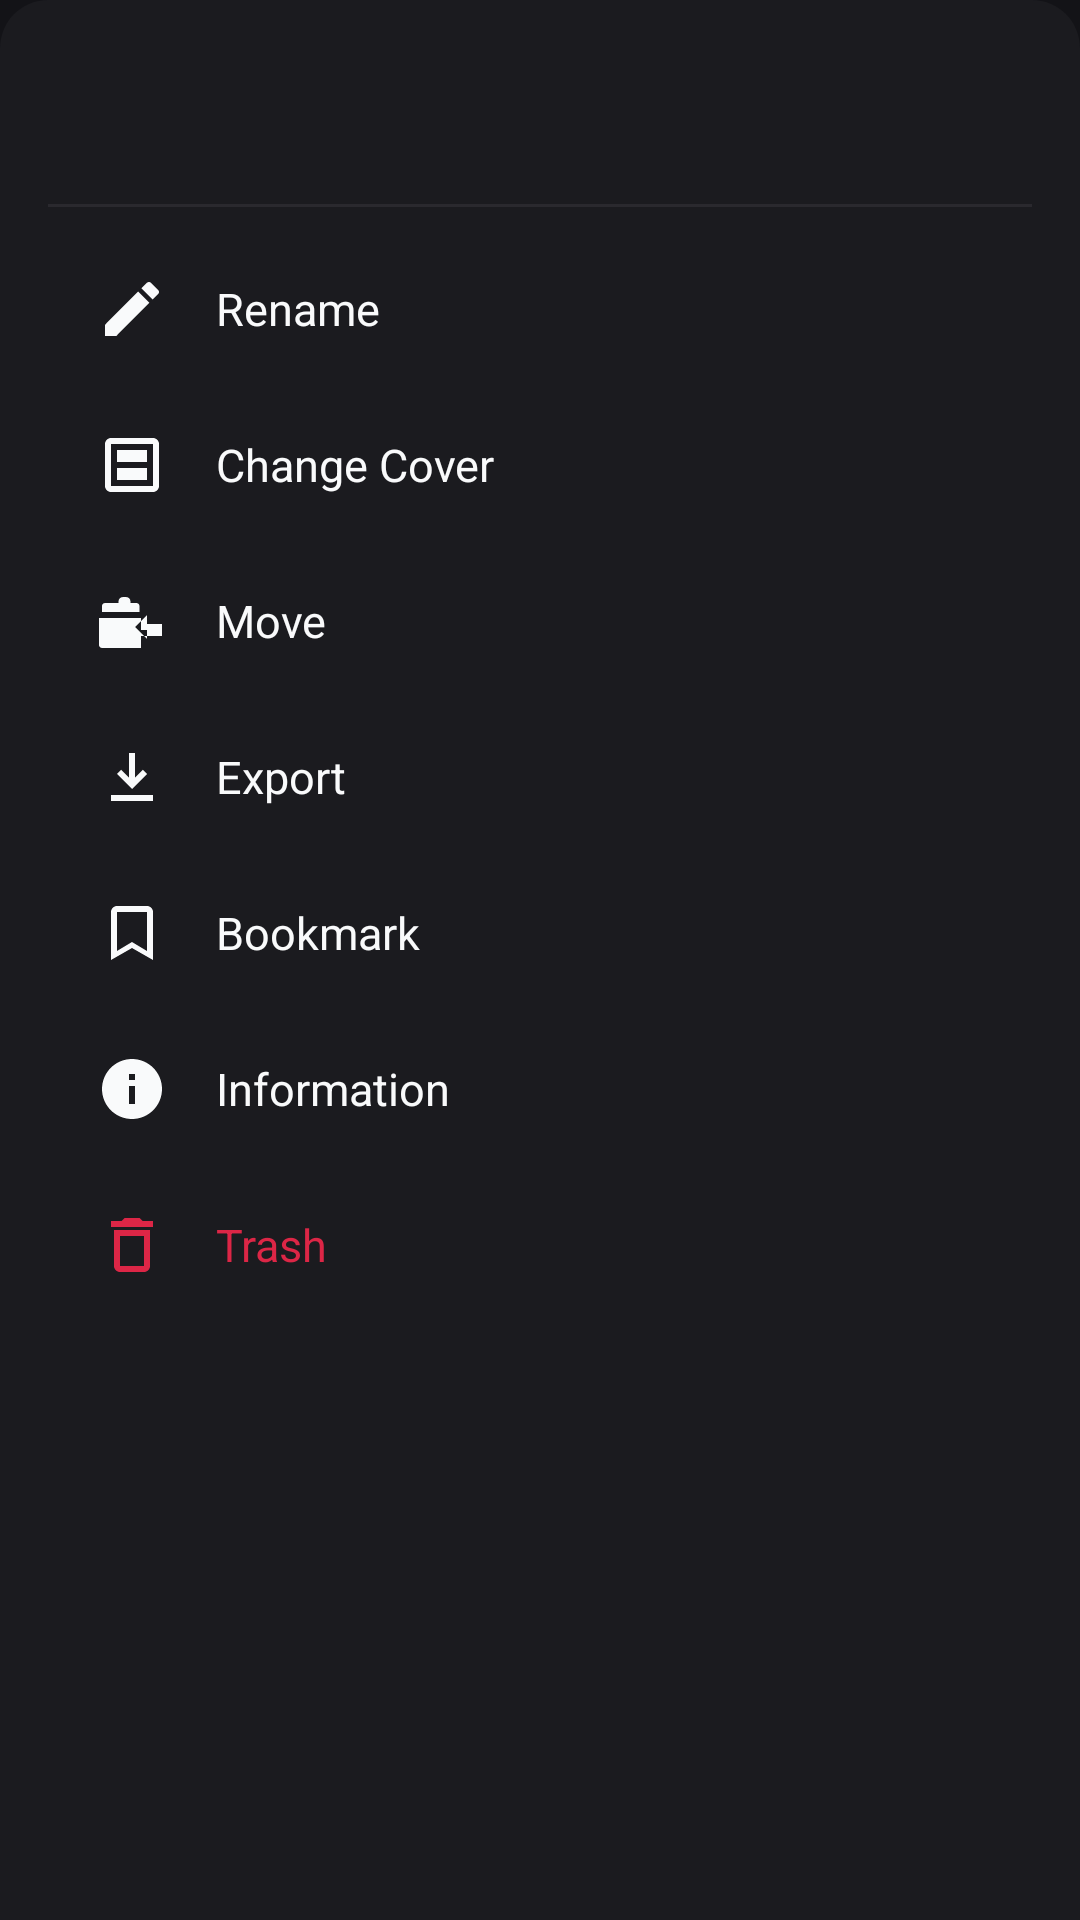

Screen size 1080px×1920px. Icon name, then its center in pixels as [x,y]:
overflow info: [132,1089]
